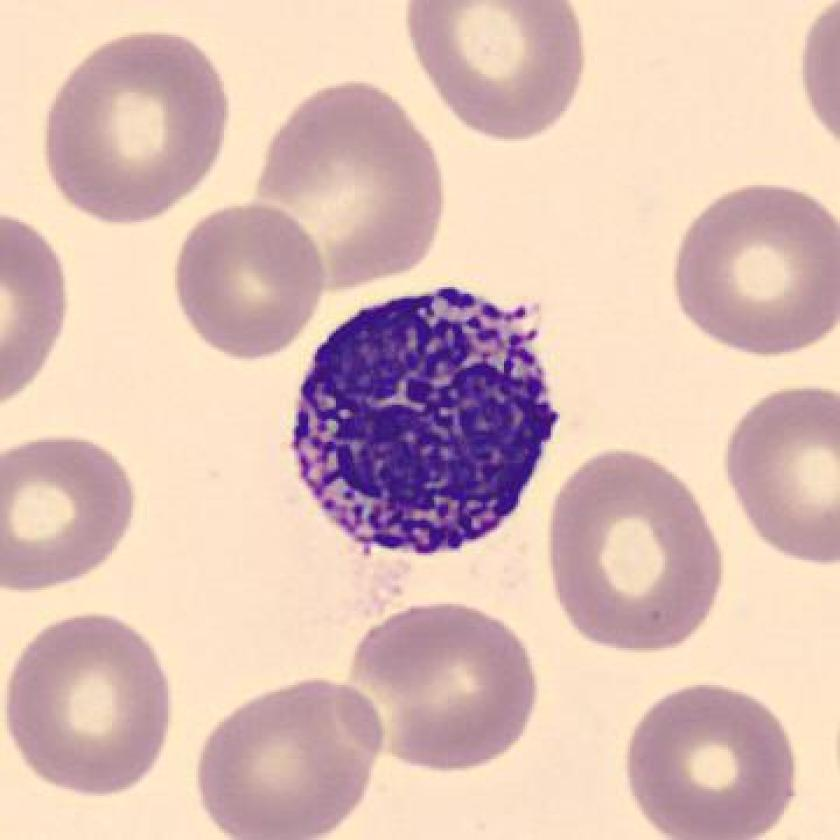basophil: (276, 276, 566, 566)
